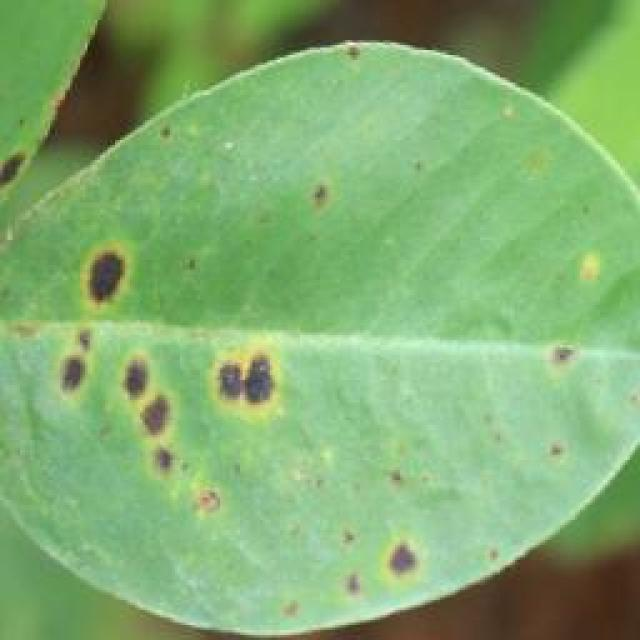Sigatoka: (7, 244, 134, 408), (296, 494, 436, 609), (196, 320, 318, 432), (106, 339, 193, 496), (487, 304, 580, 382), (173, 437, 239, 539), (511, 419, 594, 483), (307, 18, 380, 82), (142, 114, 208, 183), (360, 448, 438, 506), (548, 247, 617, 305), (452, 529, 509, 584), (290, 166, 334, 228)
